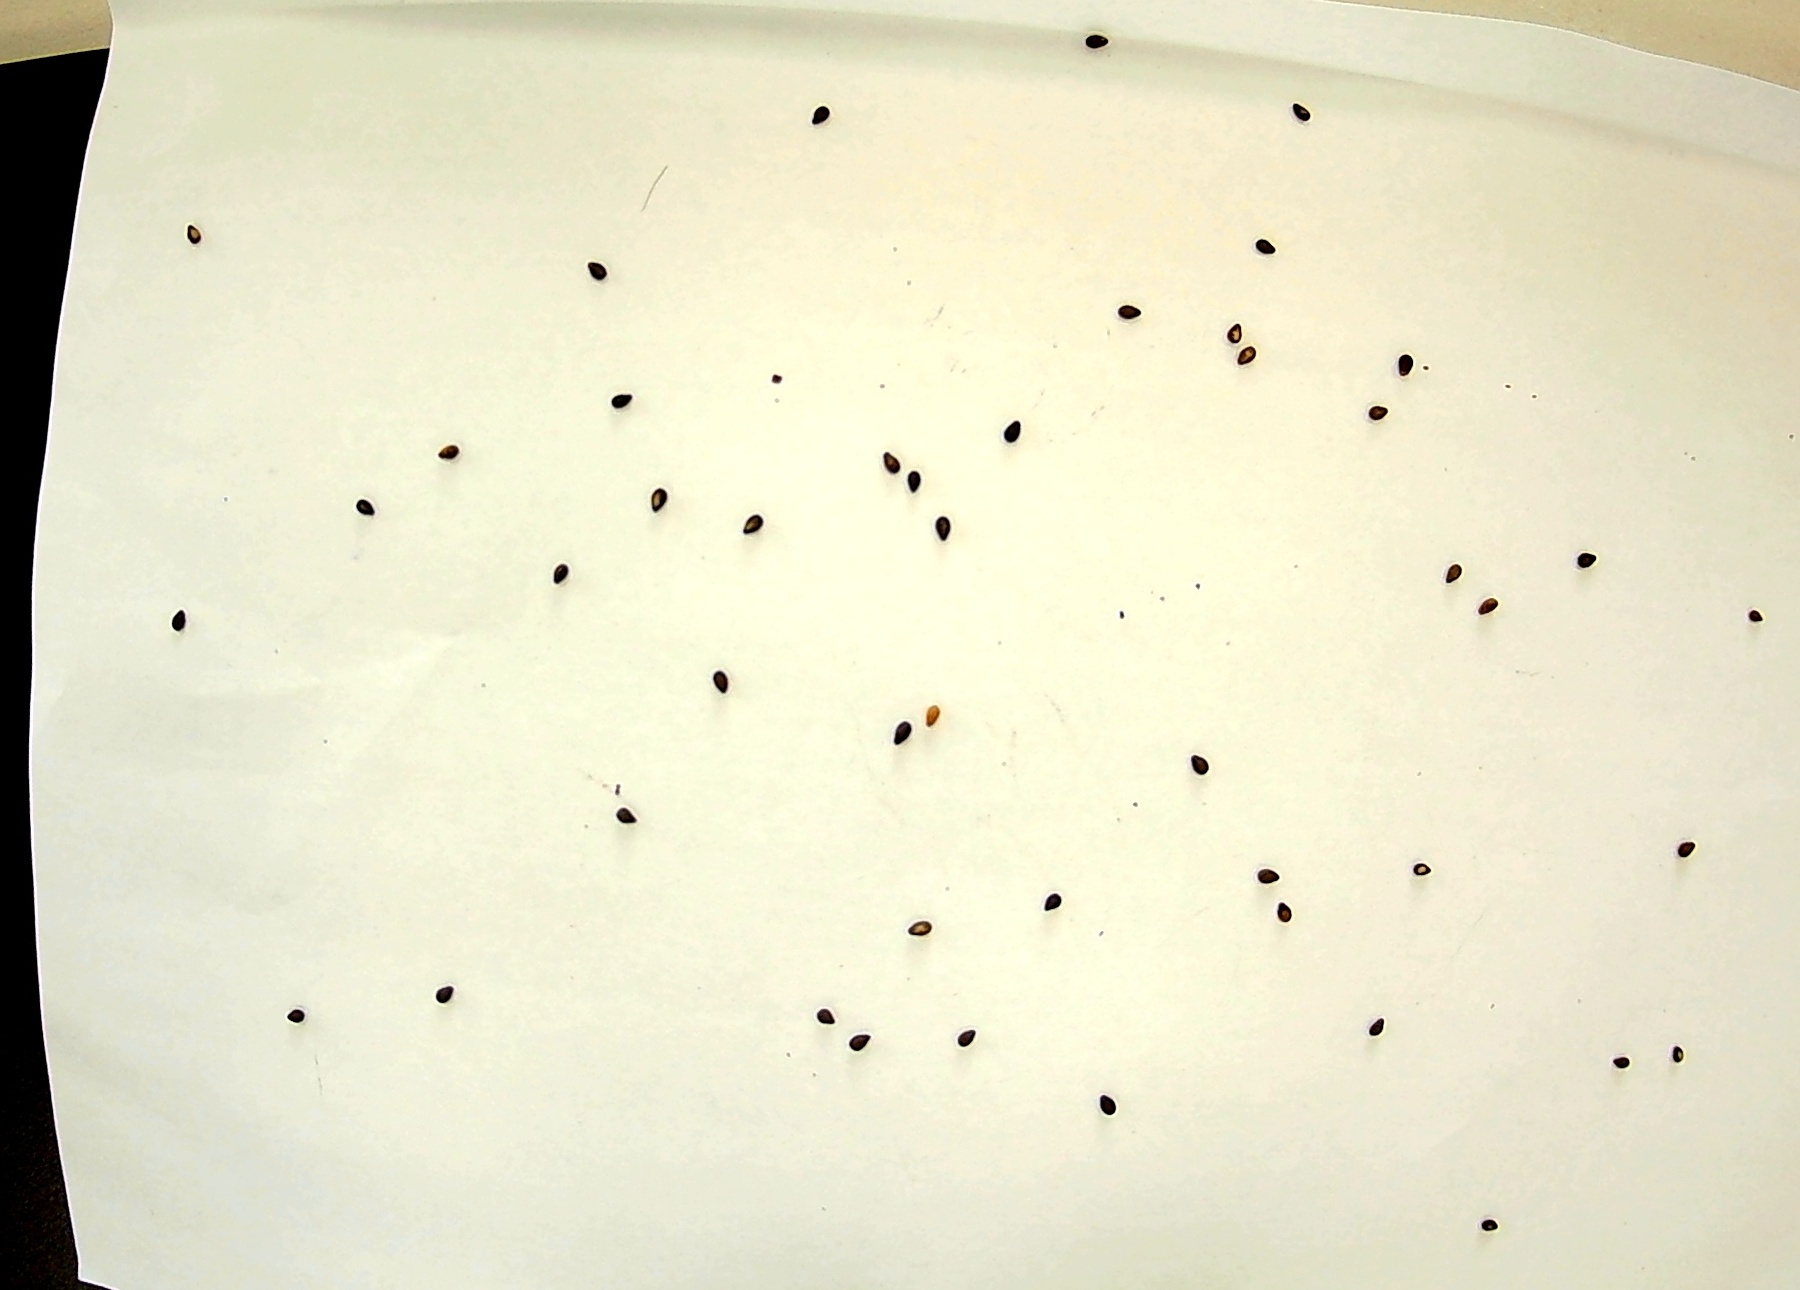sesami: (1220, 346, 1271, 374), (1655, 1037, 1700, 1069), (953, 1021, 998, 1053), (848, 1028, 893, 1060), (922, 510, 966, 542), (1665, 829, 1709, 860), (1395, 854, 1440, 885), (1245, 863, 1289, 894), (894, 913, 939, 944), (1083, 1088, 1127, 1118), (809, 1000, 854, 1030), (1726, 600, 1769, 631), (1603, 1050, 1647, 1081), (1460, 1217, 1503, 1248), (1360, 1007, 1404, 1037), (1271, 892, 1314, 923), (601, 796, 645, 826), (908, 695, 952, 726), (812, 1001, 855, 1032), (279, 1000, 322, 1030), (428, 979, 460, 1012), (807, 96, 839, 130), (601, 384, 633, 417), (1441, 557, 1473, 591), (354, 491, 387, 524), (585, 255, 615, 289), (892, 723, 922, 757), (703, 666, 734, 699), (158, 606, 188, 639), (642, 484, 673, 518), (869, 437, 900, 470), (1077, 20, 1108, 53), (423, 437, 453, 470), (174, 221, 205, 254), (1037, 889, 1067, 923), (1187, 752, 1218, 786), (1112, 295, 1143, 328), (1252, 228, 1282, 261), (1288, 98, 1319, 131), (1215, 311, 1246, 345), (1365, 396, 1395, 430), (1475, 593, 1506, 627), (1564, 544, 1595, 578), (742, 510, 773, 542), (543, 565, 573, 598), (893, 470, 924, 503), (995, 417, 1026, 450), (1395, 348, 1426, 380)
